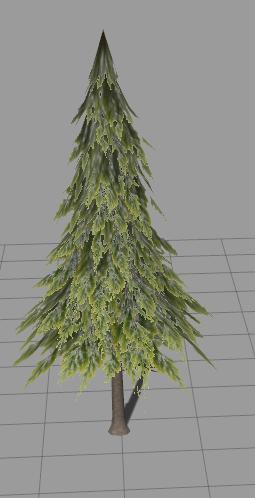tree_gazebo: (14, 33, 210, 435)
